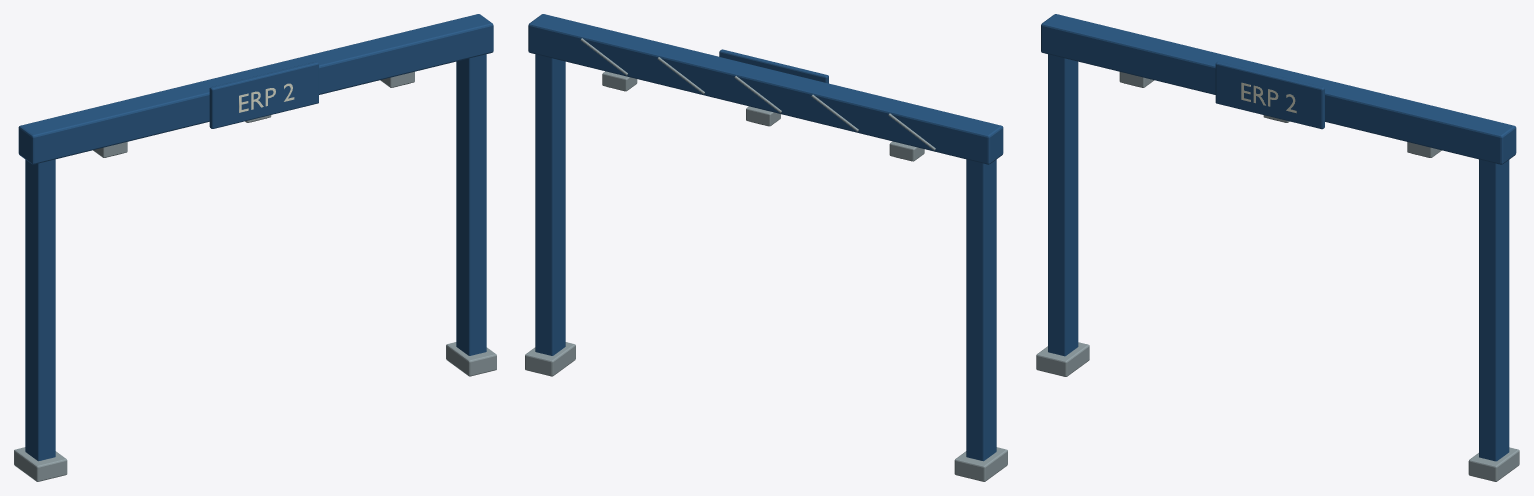
Rendered from edited.glb.
3 renders of one model, left to right at view 1: azimuth 30°, elevation 25°; view 2: azimuth 150°, elevation 25°; view 3: azimuth 330°, elevation 25°, orthographic.
Visible parts, largest first — view 1: BEAM_Main, COLUMN_Gantry.001, COLUMN_Gantry, SIGN_Concept, BASE_Footing.001, BASE_Footing; view 2: BEAM_Main, COLUMN_Gantry.001, COLUMN_Gantry, BASE_Footing.001, BASE_Footing, SIGN_Concept; view 3: BEAM_Main, COLUMN_Gantry, COLUMN_Gantry.001, SIGN_Concept, BASE_Footing.001, BASE_Footing.
Boxes of the visible parts, <box> form: BEAM_Main: <box>18,14,493,164</box>; COLUMN_Gantry.001: <box>25,159,55,461</box>; COLUMN_Gantry: <box>456,54,486,355</box>; SIGN_Concept: <box>209,61,318,128</box>; BASE_Footing.001: <box>14,447,67,481</box>; BASE_Footing: <box>446,342,496,376</box>; BEAM_Main: <box>528,14,1003,164</box>; COLUMN_Gantry.001: <box>966,159,996,461</box>; COLUMN_Gantry: <box>535,54,565,355</box>; BASE_Footing.001: <box>954,447,1007,481</box>; BASE_Footing: <box>525,342,575,376</box>; SIGN_Concept: <box>719,49,828,83</box>; BEAM_Main: <box>1041,14,1516,164</box>; COLUMN_Gantry: <box>1479,159,1509,461</box>; COLUMN_Gantry.001: <box>1048,54,1078,356</box>; SIGN_Concept: <box>1215,61,1324,129</box>; BASE_Footing.001: <box>1036,342,1089,376</box>; BASE_Footing: <box>1468,447,1519,481</box>.
Bounding box in the file's own units: 9 × 6.5 × 0.8.
